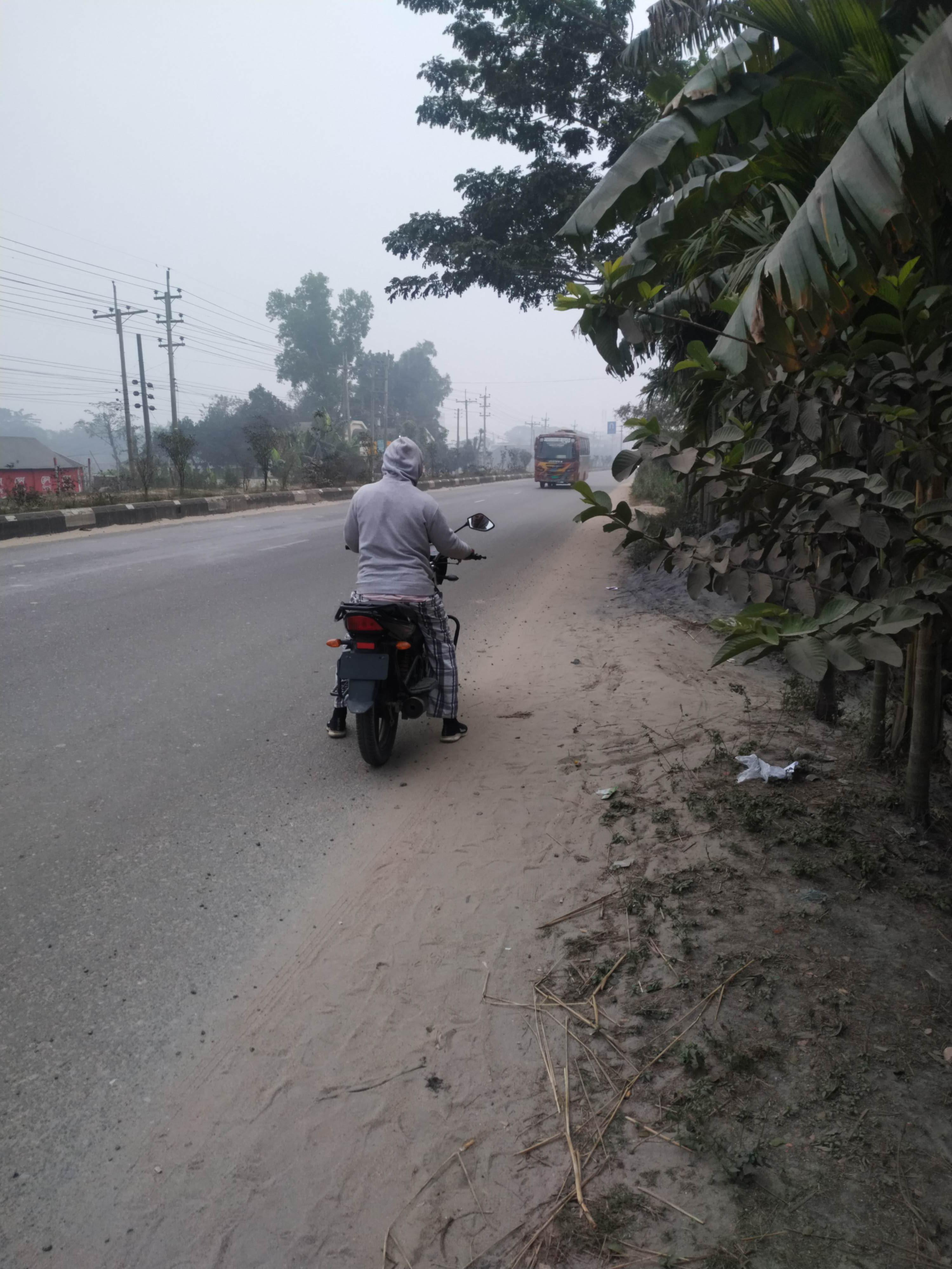Bike: (271, 407, 492, 774)
Bus: (525, 422, 600, 521)
